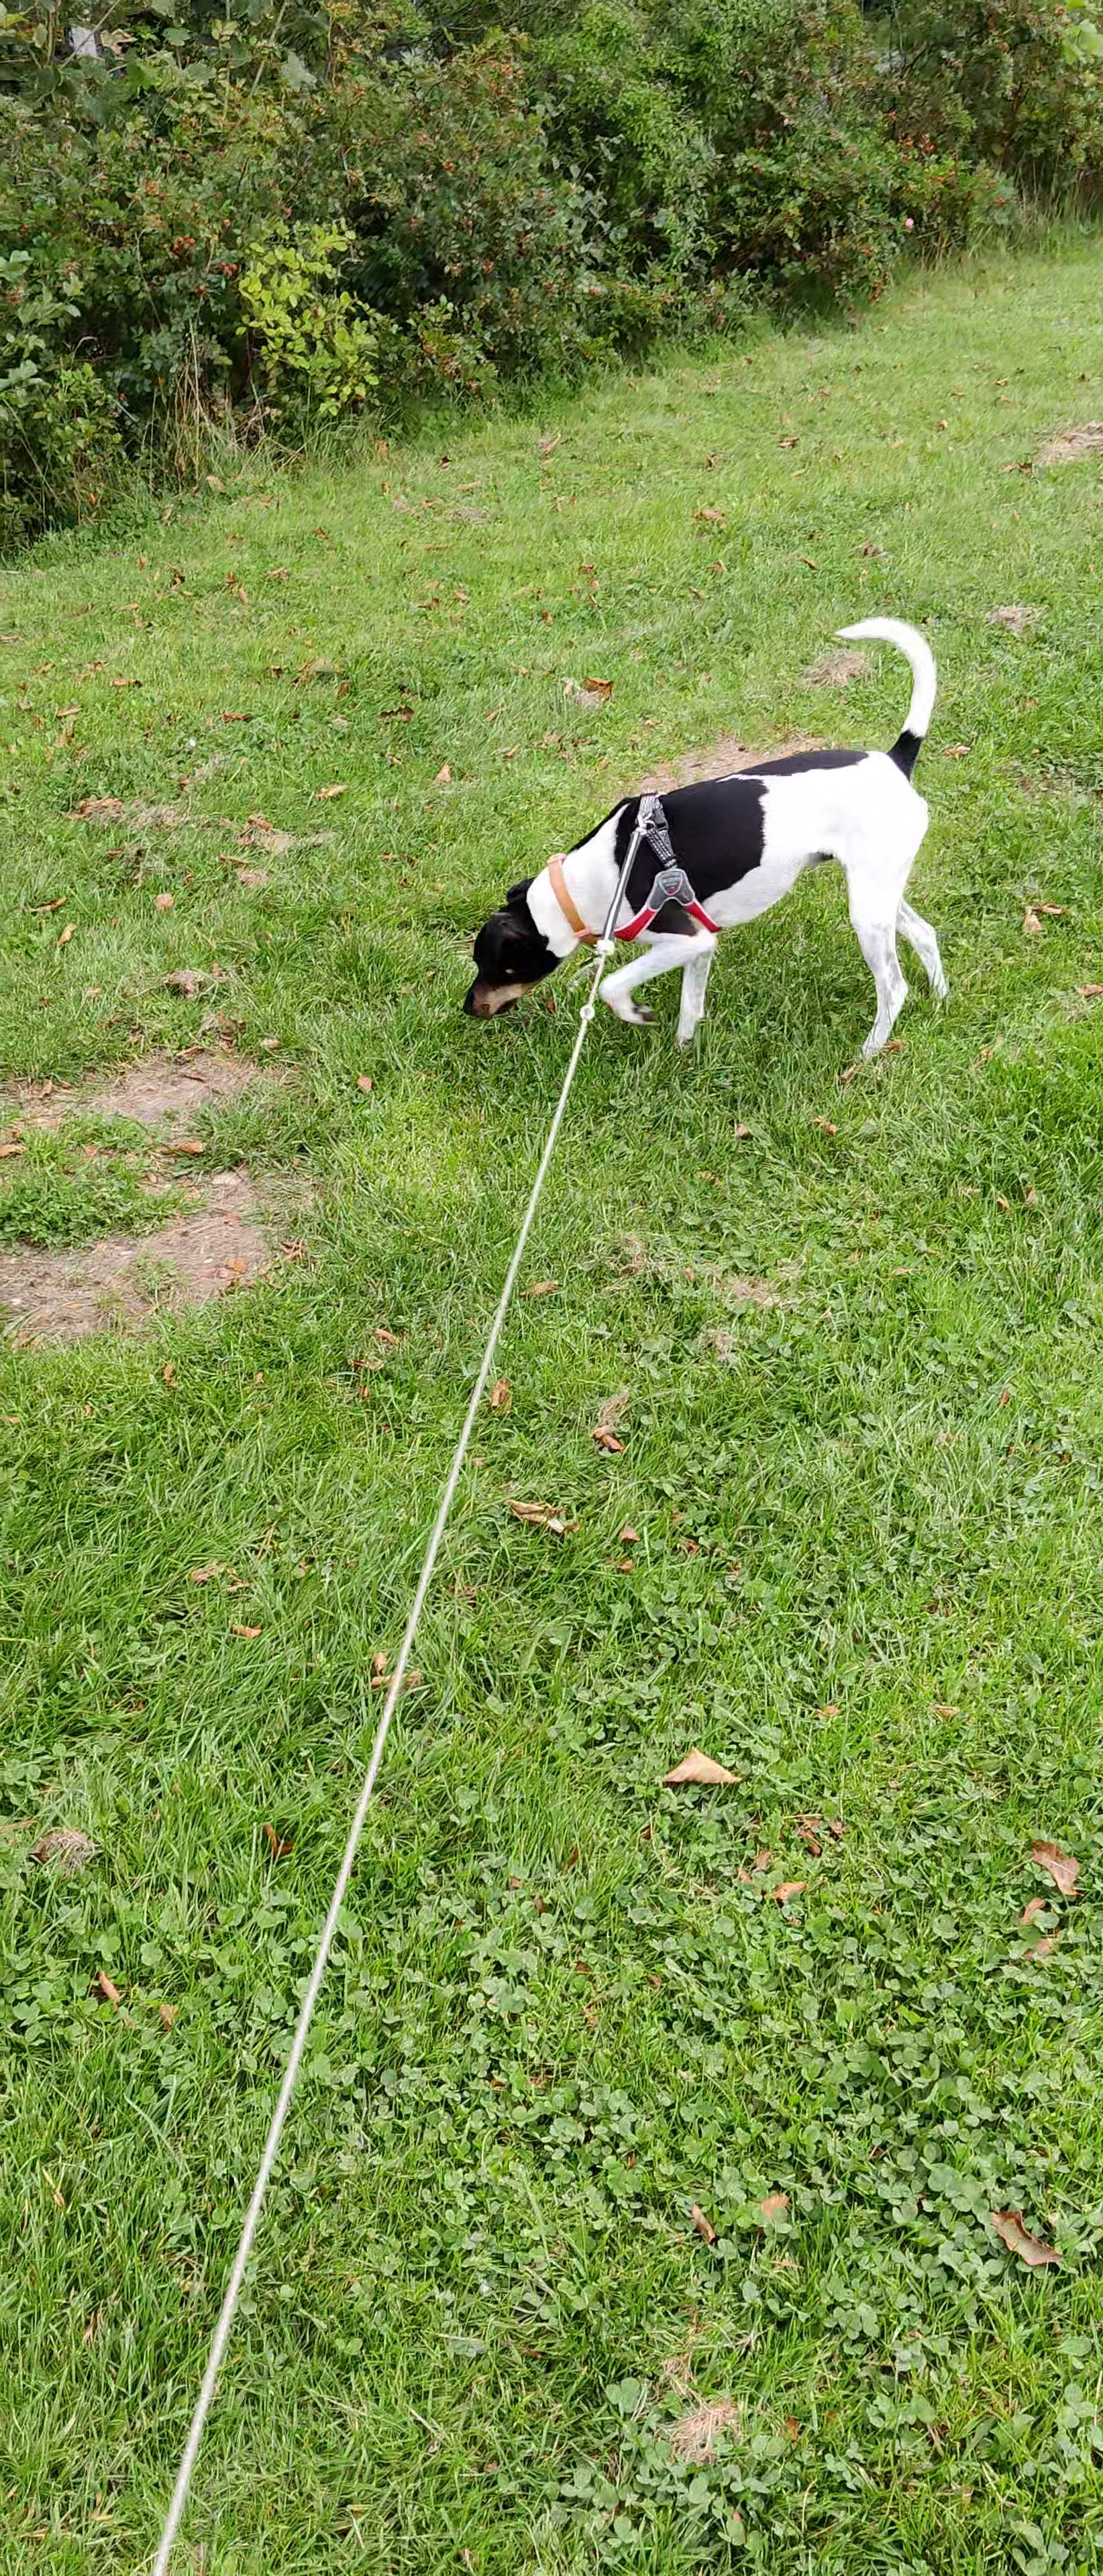Dog: (455, 608, 970, 1066)
